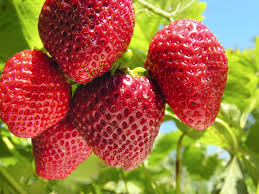strawberry: (69, 67, 166, 172), (144, 18, 229, 133), (37, 1, 136, 85), (1, 48, 73, 140), (30, 116, 96, 183)
